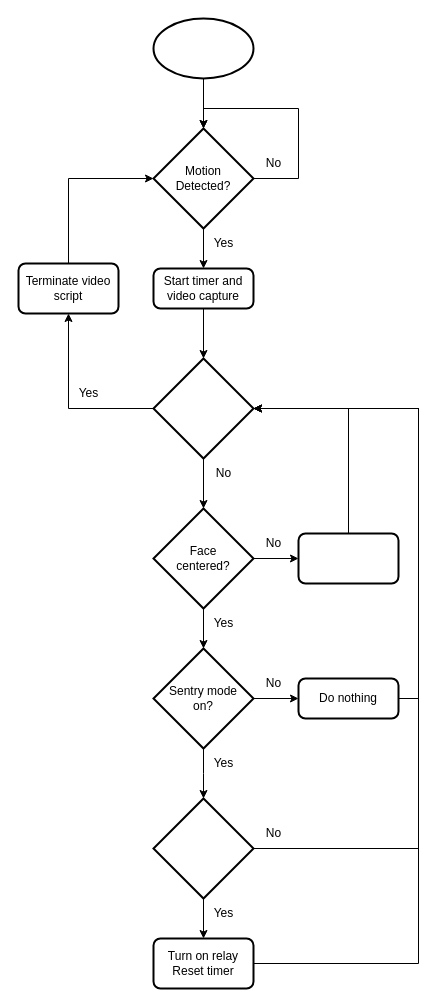
Image size: 444x1006. Some labels were removed from this diagram. The centre of each missing label's shape, as x and y in pixels:
"Start" belongs at (203,48).
"Subject within distance?" belongs at (203,848).
"Time up?" belongs at (203,408).
"Turn stepper motors" belongs at (348,558).
